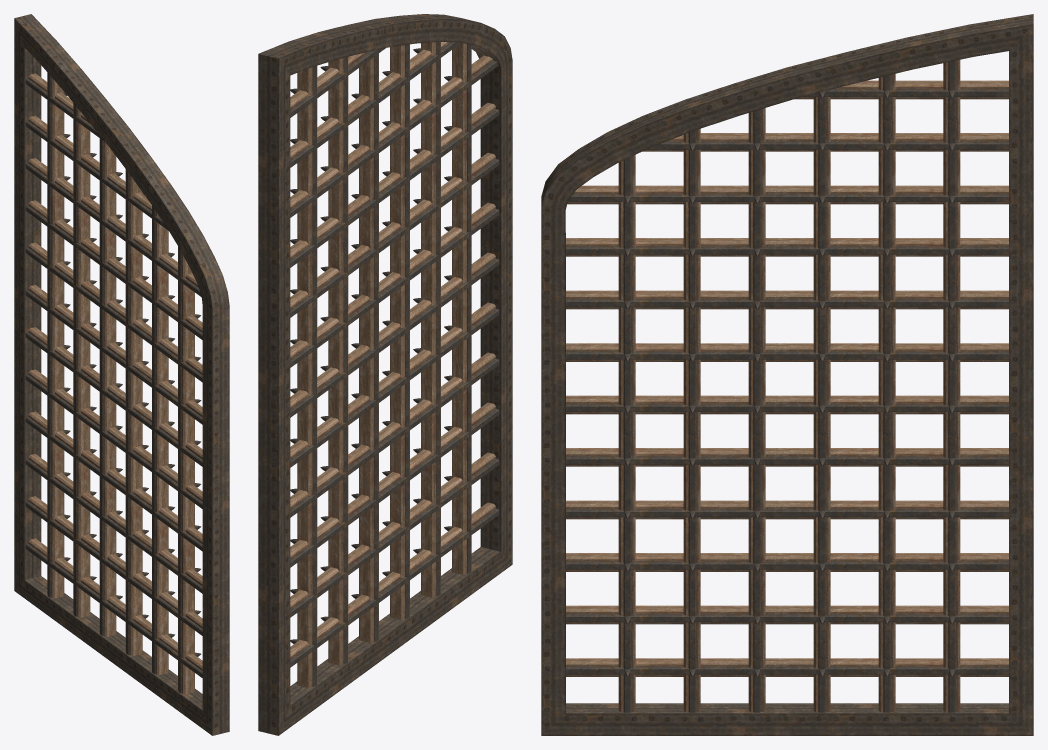
The picture shows the model from 3 angles, left to right: view 1: azimuth 30°, elevation 25°; view 2: azimuth 150°, elevation 25°; view 3: azimuth 270°, elevation 25°; orthographic projection. The views are drawn at different scales.
Visible parts, largest first — view 1: SM_Dowdun_Walkway_Arch_14x8_Gate_01_LOD0; view 2: SM_Dowdun_Walkway_Arch_14x8_Gate_01_LOD0; view 3: SM_Dowdun_Walkway_Arch_14x8_Gate_01_LOD0.
Part boxes in pixels (<box>): SM_Dowdun_Walkway_Arch_14x8_Gate_01_LOD0: <box>14,14,229,735</box>; SM_Dowdun_Walkway_Arch_14x8_Gate_01_LOD0: <box>258,14,512,735</box>; SM_Dowdun_Walkway_Arch_14x8_Gate_01_LOD0: <box>541,14,1033,735</box>.
Bounding box in the file's own units: 0.3408 × 7.98 × 5.
3 materials, 3 textured.
